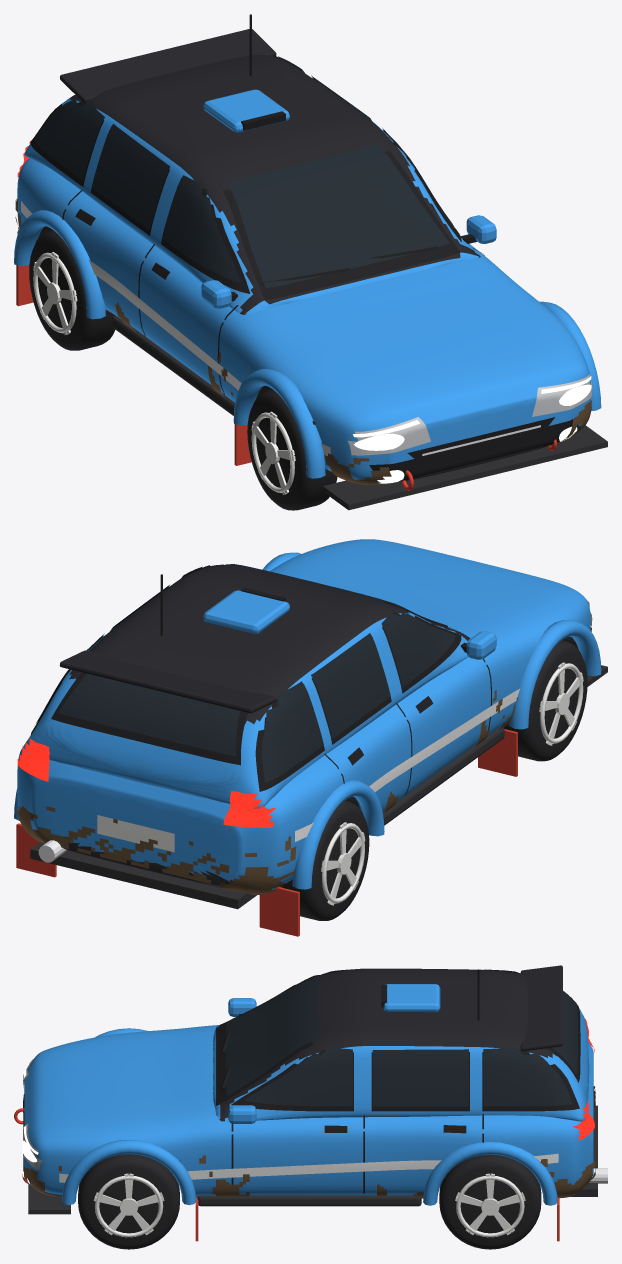
File: car_supermini.glb
3 views of the same model, one above another, from view 1: azimuth 30°, elevation 25°; view 2: azimuth 150°, elevation 25°; view 3: azimuth 270°, elevation 25° (orthographic). The views are drawn at different scales.
Parts seen in each view (by area): view 1: Body, WheelFR, WheelRR; view 2: Body, WheelFR, WheelRR; view 3: Body, WheelFL, WheelRL.
Part boxes in pixels (bbox=[...]): Body: bbox=[14, 14, 607, 510]; WheelFR: bbox=[247, 389, 337, 510]; WheelRR: bbox=[29, 230, 115, 350]; Body: bbox=[14, 539, 607, 936]; WheelFR: bbox=[504, 640, 587, 761]; WheelRR: bbox=[279, 800, 369, 920]; Body: bbox=[14, 965, 607, 1241]; WheelFL: bbox=[78, 1154, 179, 1249]; WheelRL: bbox=[439, 1154, 541, 1249].
Bounding box in the file's own units: 2 × 1.89 × 4.19.
